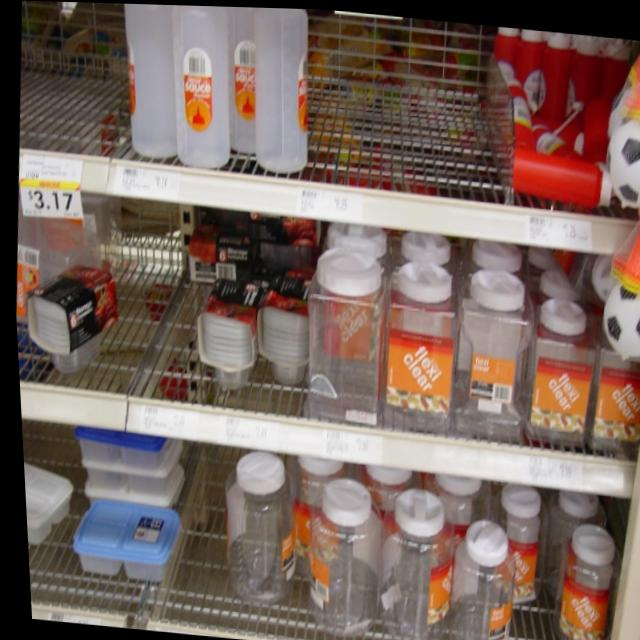q299: (581, 213, 640, 357), (594, 42, 640, 225)
